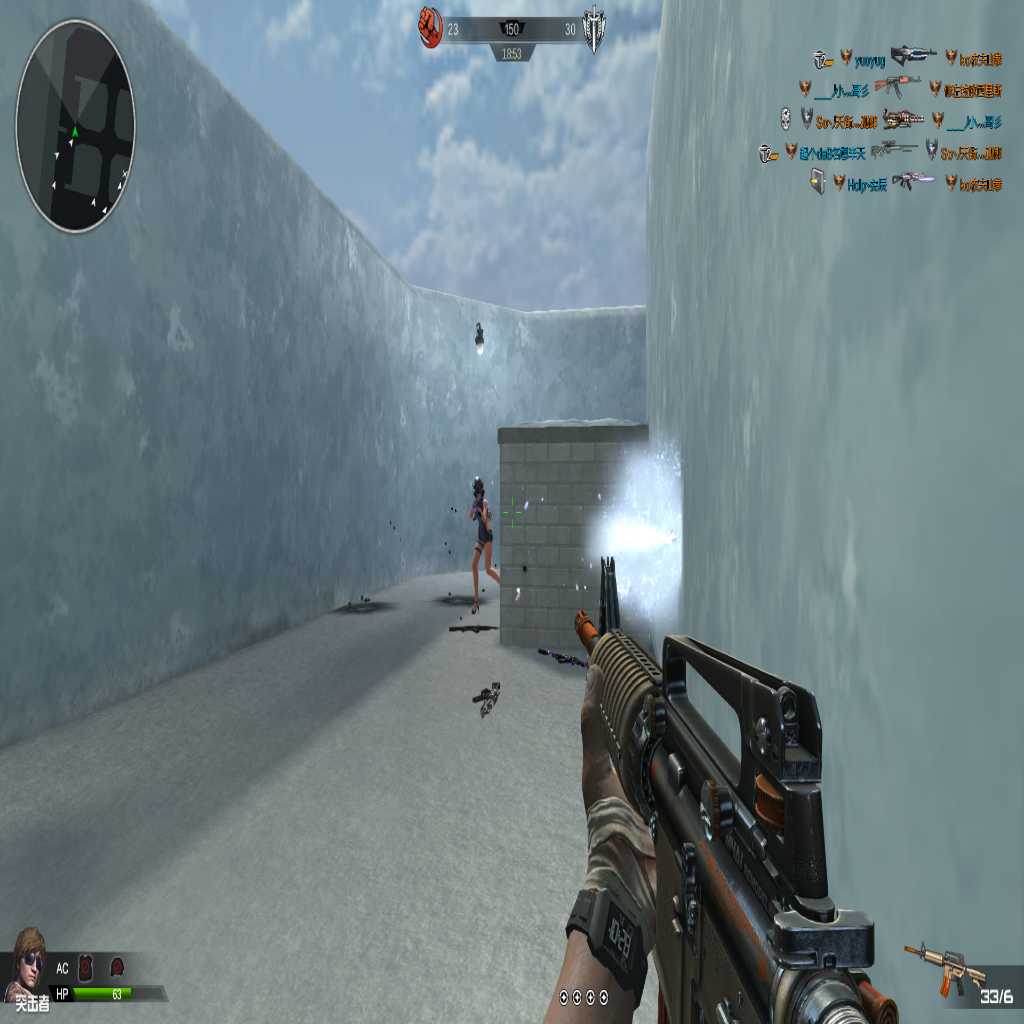ct: (465, 476, 499, 613)
